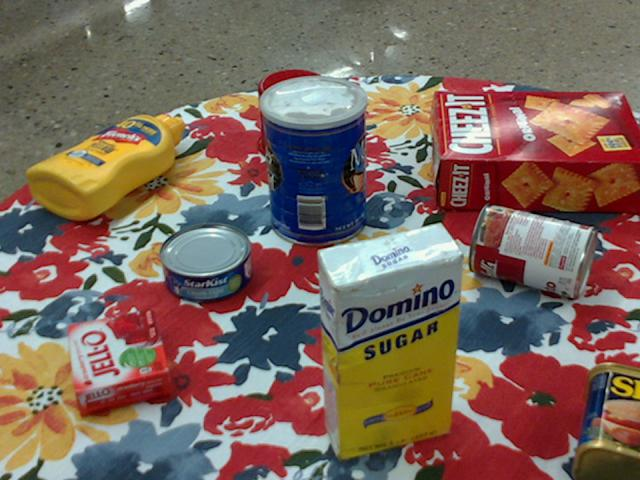cracker_box: (433, 90, 639, 213)
gelatin_box: (70, 311, 173, 419)
master_chef_can: (261, 75, 367, 246)
mug: (257, 69, 348, 163)
mustard_bottle: (26, 114, 183, 219)
potted_meat_can: (575, 359, 639, 479)
sugar_box: (315, 221, 463, 462)
tomato_soup_can: (471, 203, 598, 296)
tuna_fish_can: (158, 224, 251, 303)
